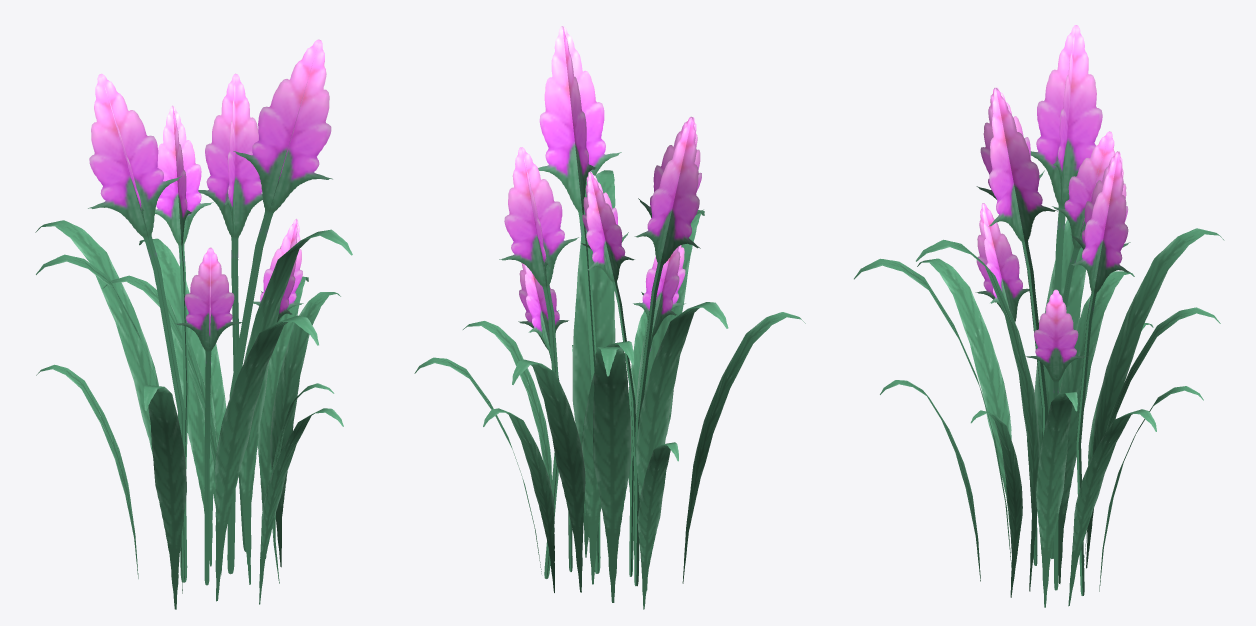
File: SM_ENV_flower_ancient_06_01.fbx
3 views of the same model, side by side, from view 1: azimuth 30°, elevation 25°; view 2: azimuth 150°, elevation 25°; view 3: azimuth 270°, elevation 25° (orthographic). The views are drawn at different scales.
Visible parts, largest first — view 1: SM_ENV_flower_ancient_06_01_LOD0; view 2: SM_ENV_flower_ancient_06_01_LOD0; view 3: SM_ENV_flower_ancient_06_01_LOD0.
Part boxes in pixels (x1,y1,x2,y2): SM_ENV_flower_ancient_06_01_LOD0: [35, 39, 352, 609]; SM_ENV_flower_ancient_06_01_LOD0: [414, 26, 805, 609]; SM_ENV_flower_ancient_06_01_LOD0: [854, 25, 1224, 607].
Bounding box in the file's own units: 45.28 × 73.92 × 48.92.
